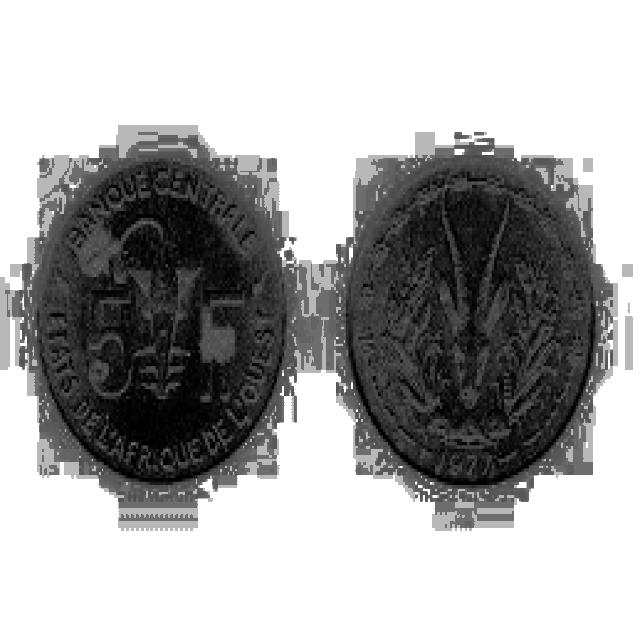derem: (347, 159, 594, 483), (40, 160, 285, 480)
